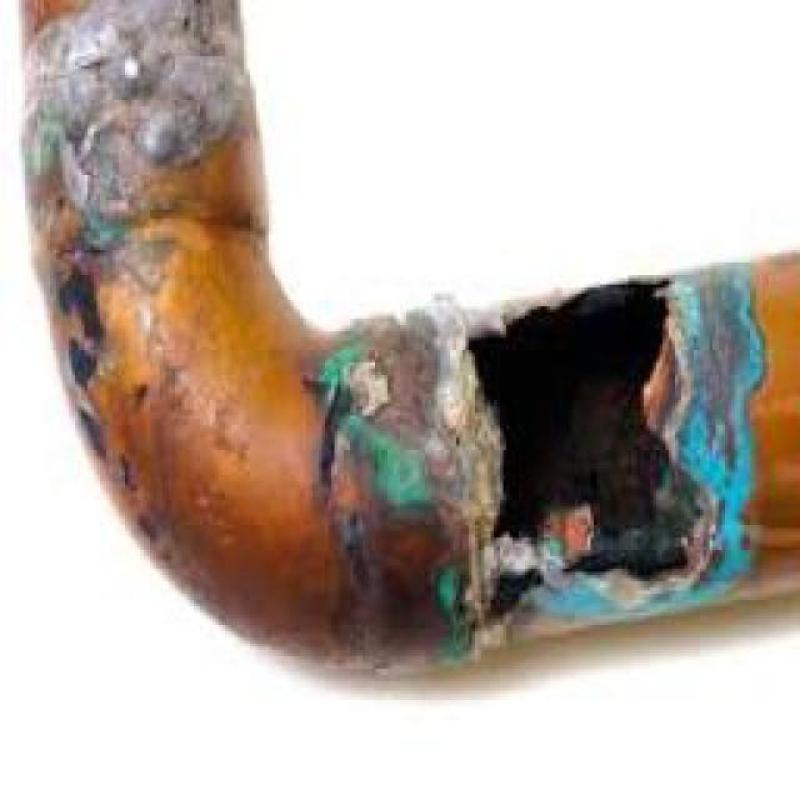Fracture: (414, 312, 759, 606)
corrosion: (25, 5, 237, 174)
